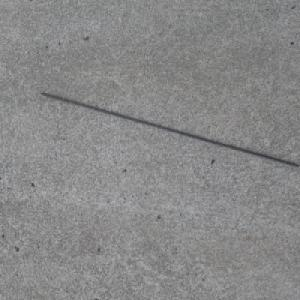LuggagePart: (39, 91, 300, 168)
